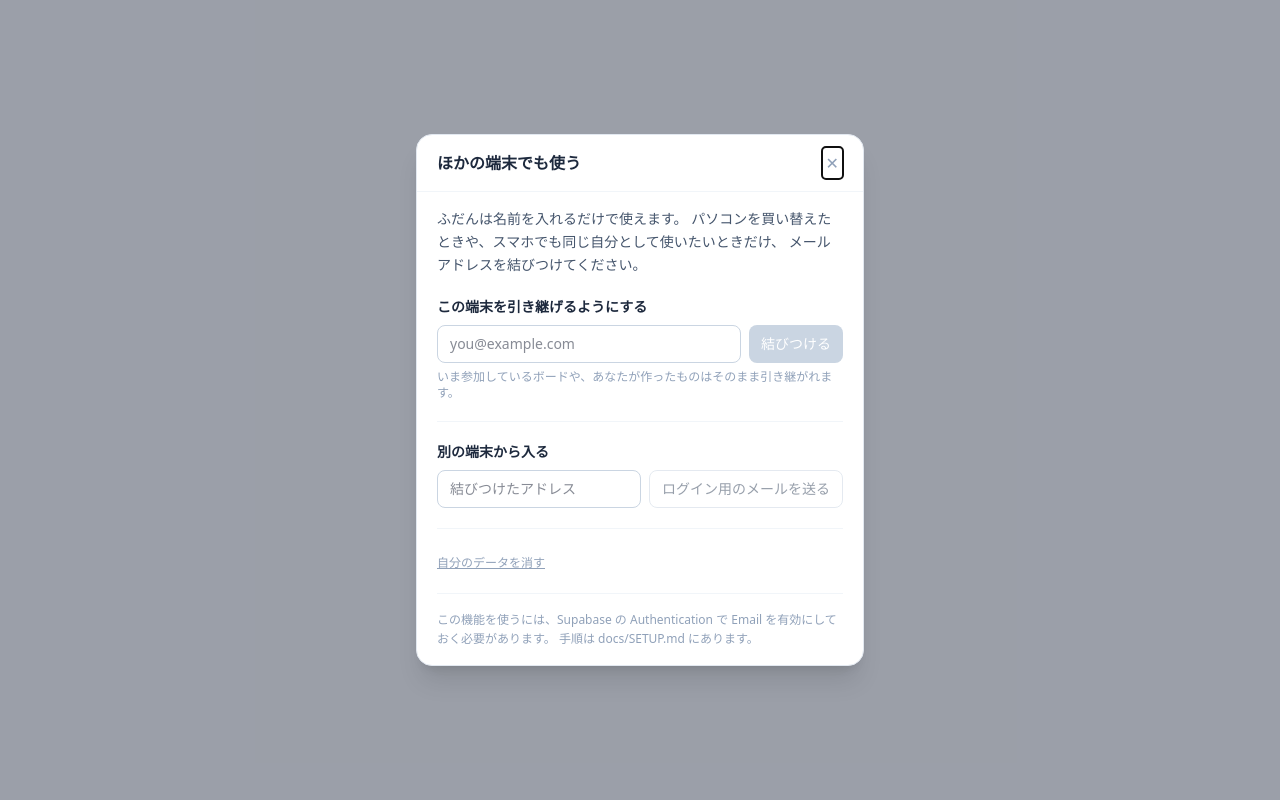
Test: AccountModal — 自分のデータを消す › 作った人の印は、自分が作ったボードにだけ付く
Step 1. Click the button "自分のデータを消す" → [491, 563], box [437,555,545,571]
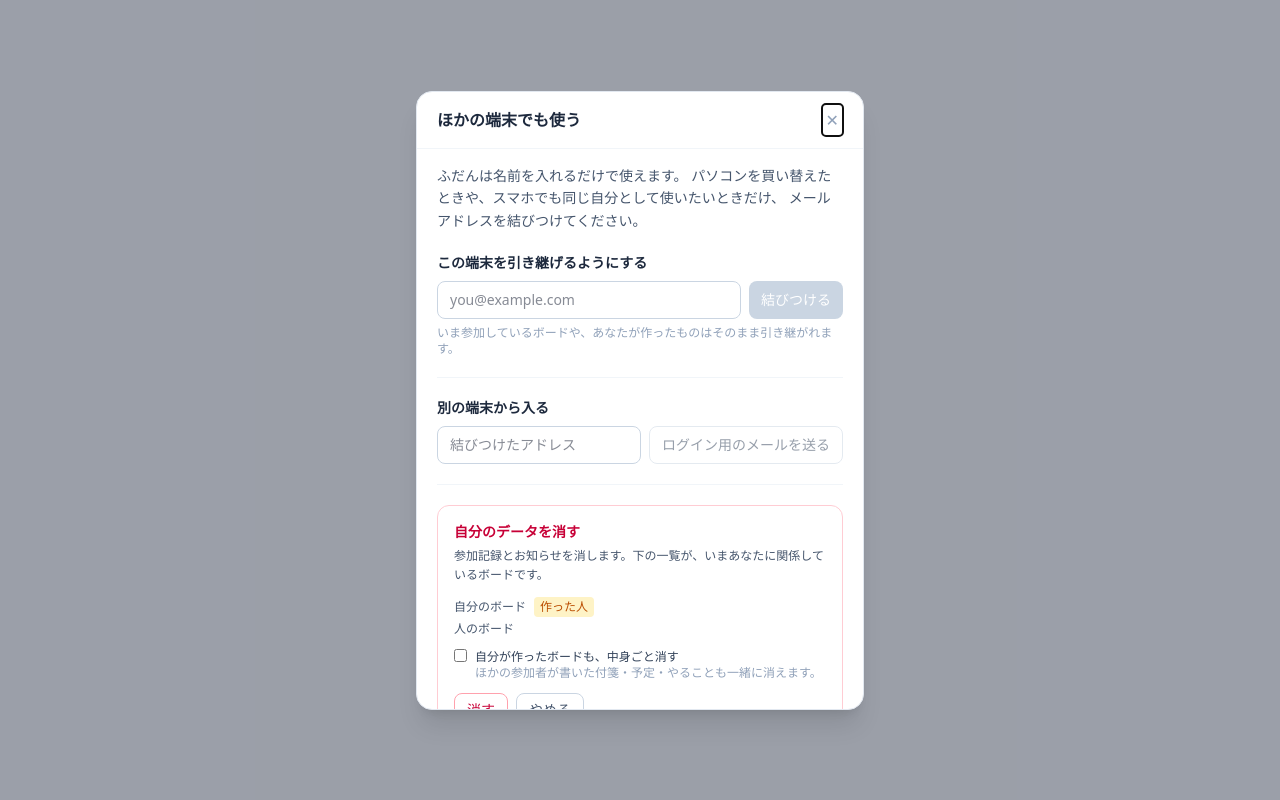
Expected: the text "作った人" is shown once, [534,597,594,617]
